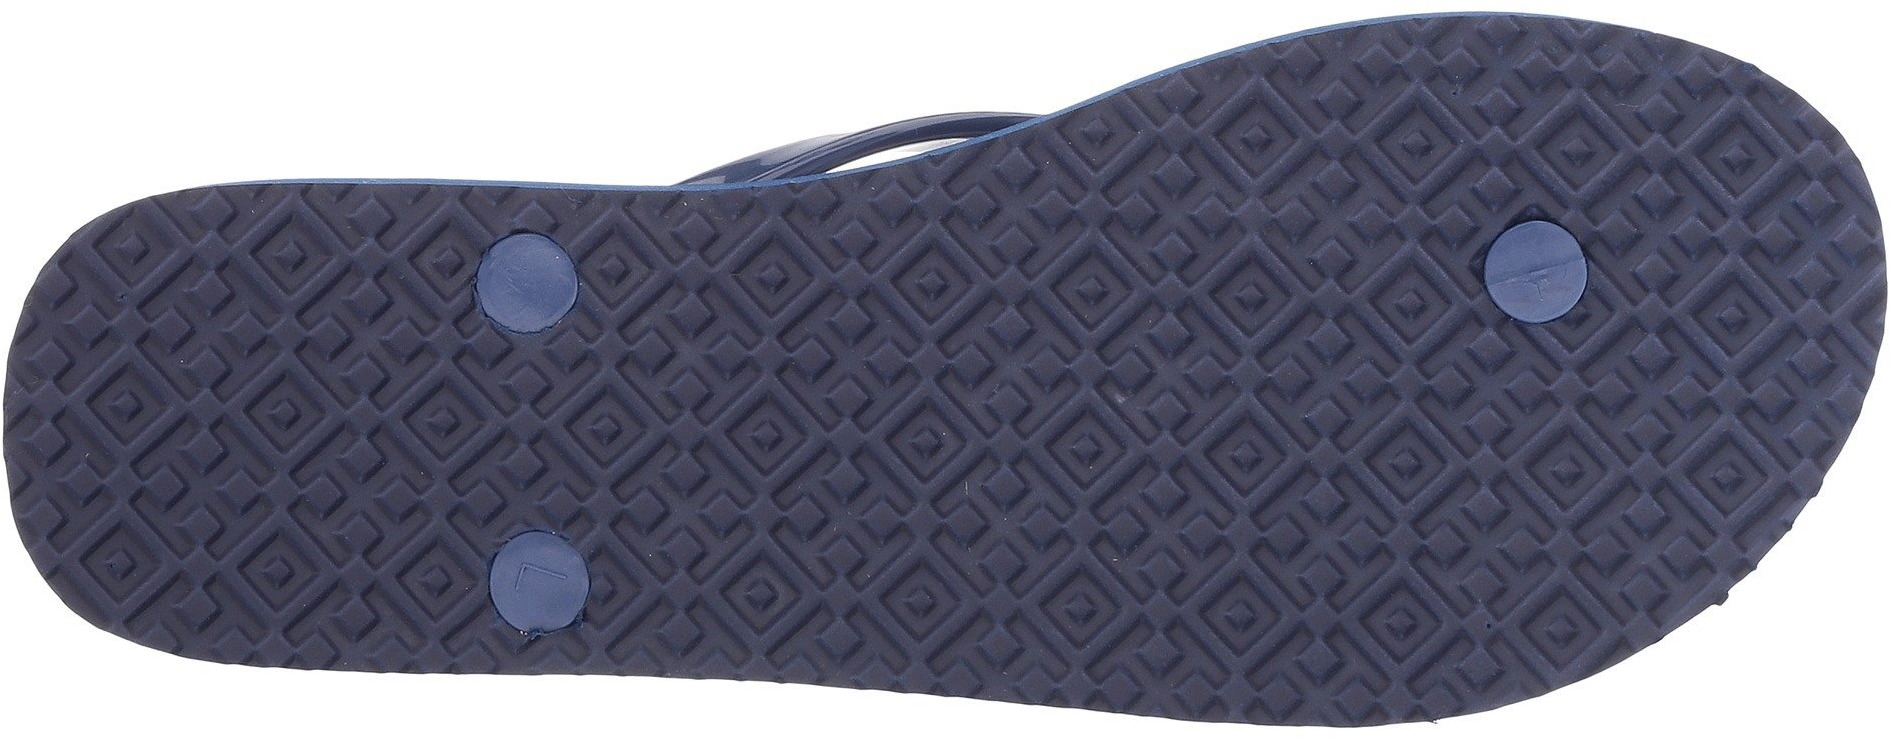circle: (400, 184, 652, 417), (475, 526, 601, 650), (460, 229, 585, 342), (1478, 217, 1596, 332)
quad: (1006, 137, 1357, 462), (74, 238, 399, 560), (1398, 131, 1737, 439), (663, 224, 990, 539), (1374, 346, 1634, 626), (400, 184, 652, 417), (1049, 478, 1286, 701), (1612, 84, 1804, 299)
